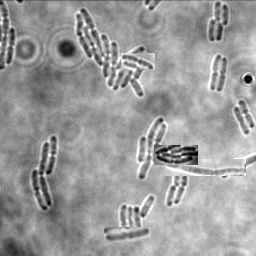Dividing: (164, 159, 246, 176), (104, 227, 151, 242), (121, 53, 155, 70), (238, 99, 255, 128), (209, 54, 222, 90), (217, 56, 228, 92), (175, 176, 189, 204), (7, 27, 17, 64)
Microcolony: (76, 7, 147, 98), (137, 117, 168, 180), (32, 135, 57, 211), (120, 195, 155, 238), (154, 145, 198, 165), (208, 1, 229, 42)
Rod: (233, 106, 251, 135), (167, 184, 177, 206), (174, 176, 183, 187)
